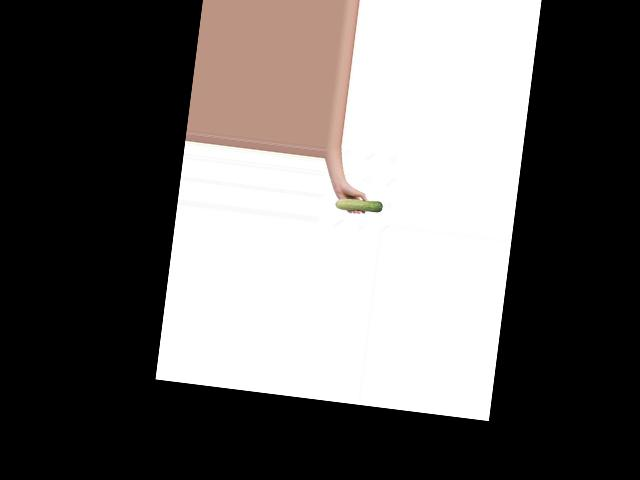cucumber: (334, 195, 383, 213)
